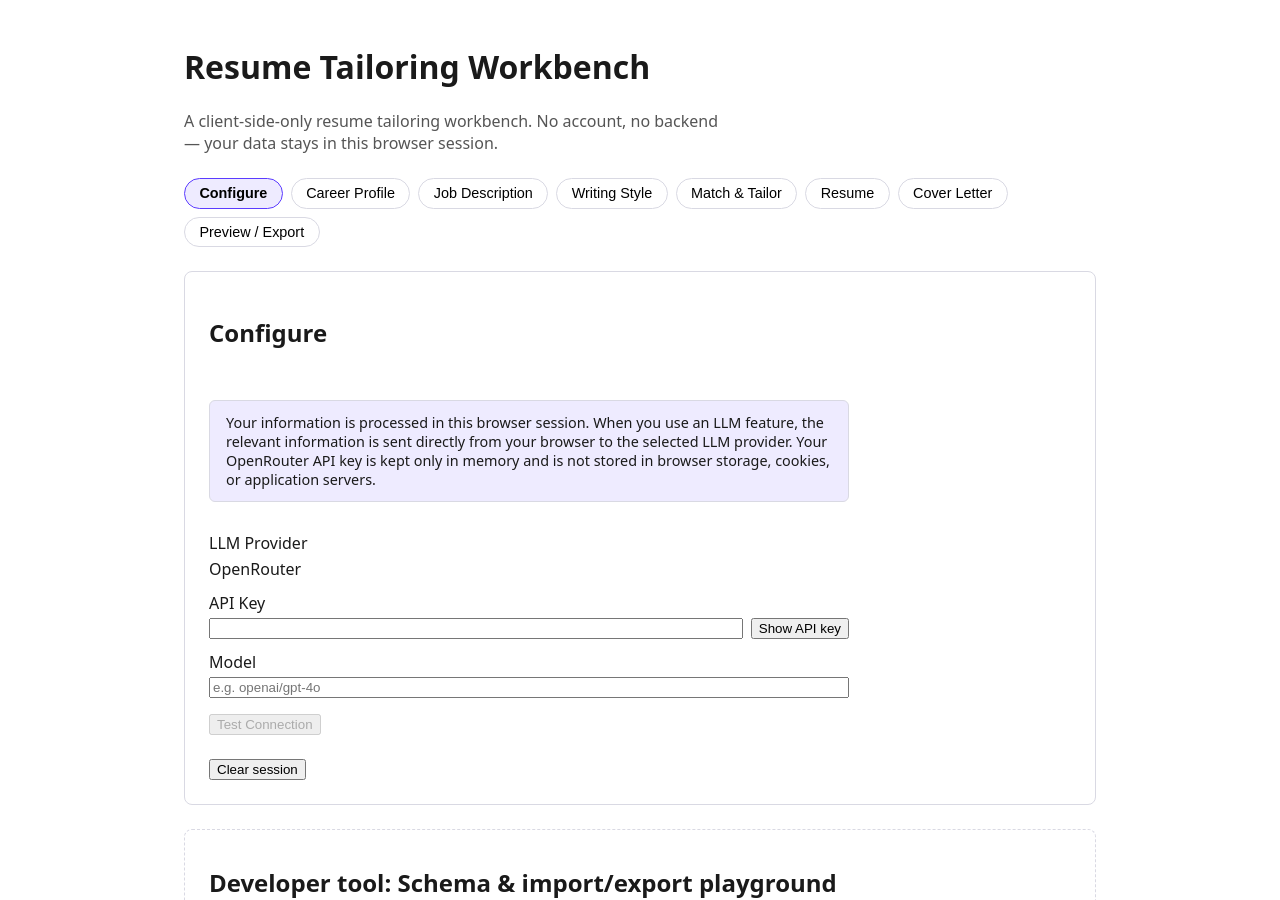
Test: Security / Privacy Verification (Stage 17) › never sends the API key in the outgoing LLM request body (only via the Authorization header)
Click the button "Configure". click: coordinates (233, 193)
box: [184,178,283,209]
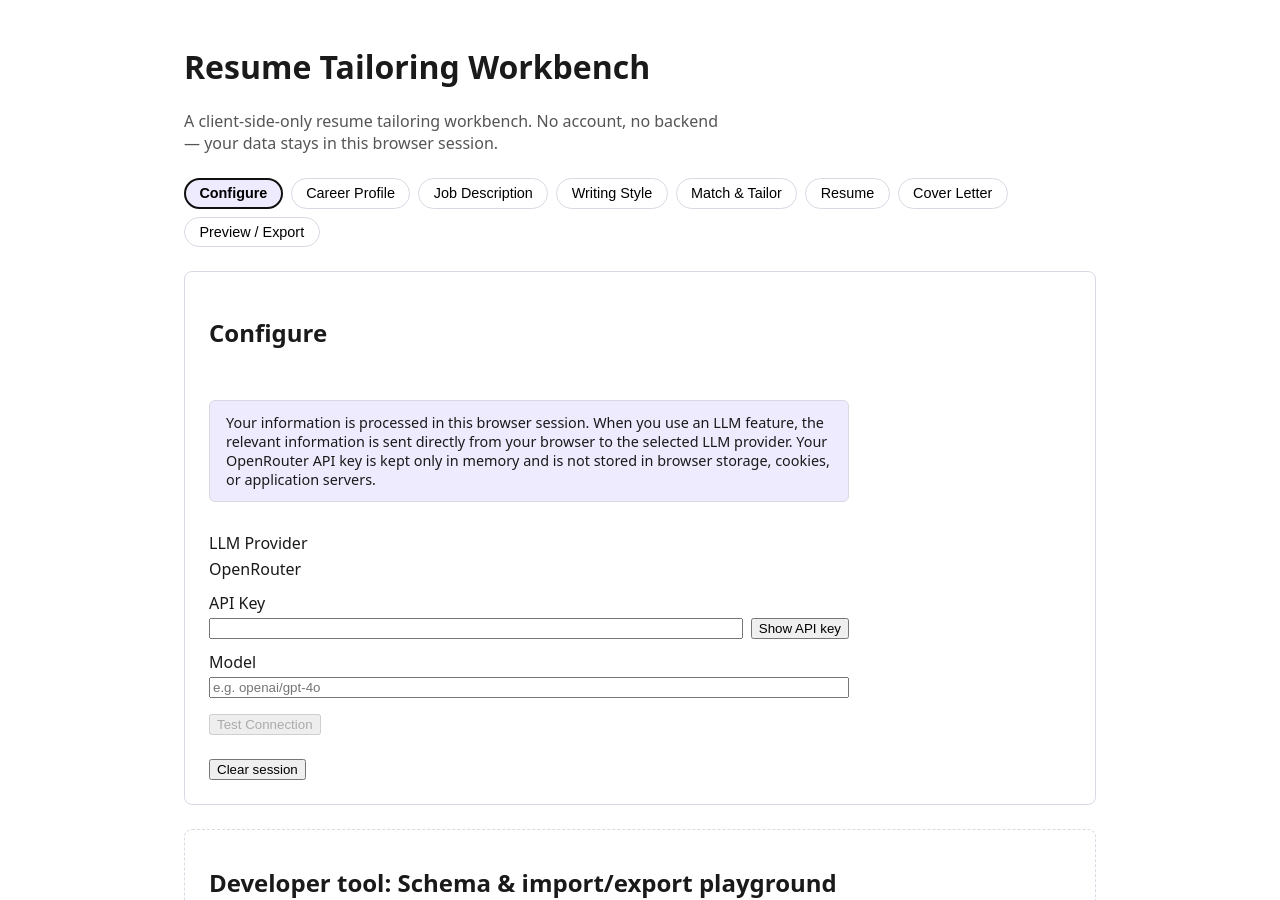
Type "sk-test-secret-should-never-leak-98765" into the password field labelled "API Key". click: coordinates (476, 628)
box: [209,618,743,639]
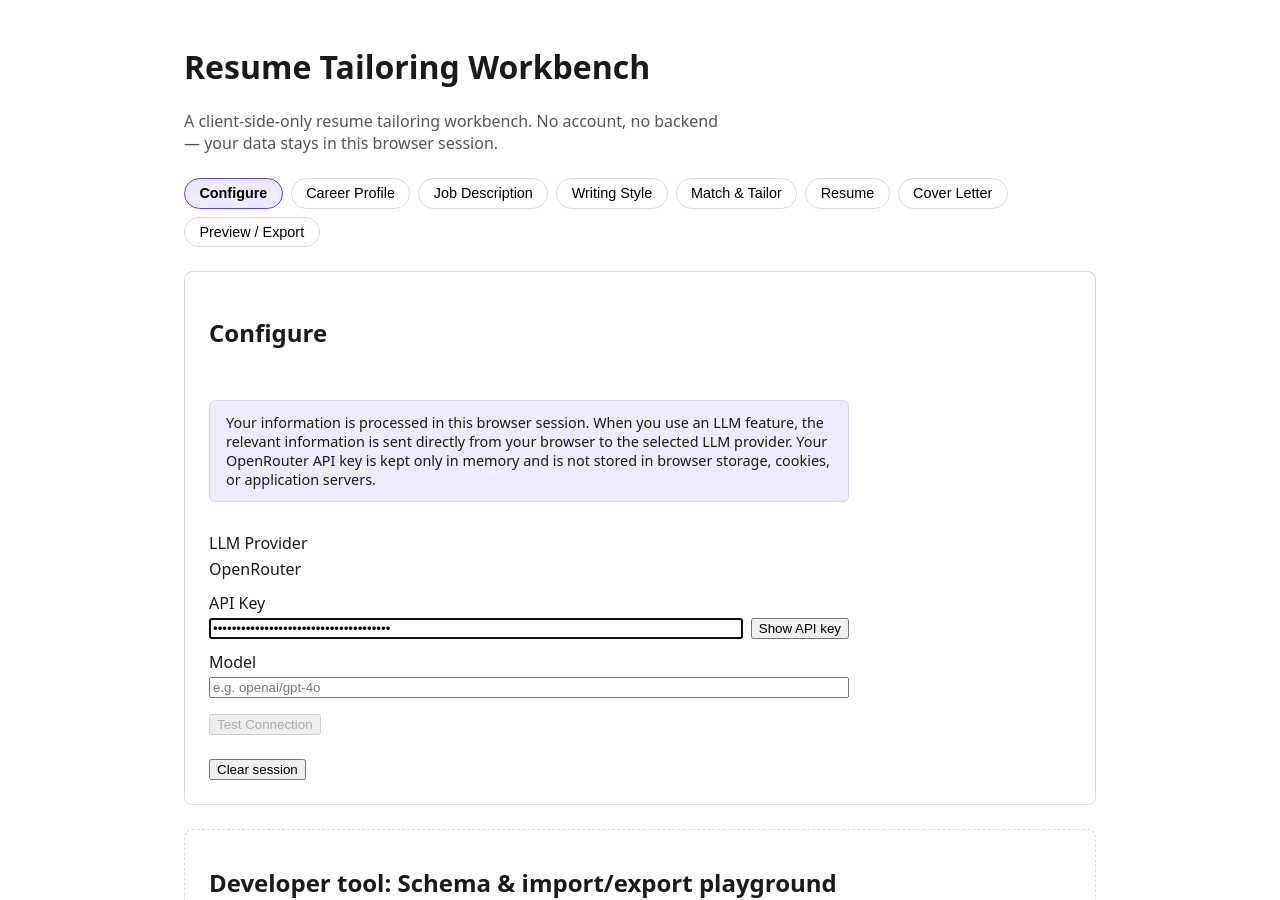
Type "openai/gpt-4o" into the field labelled "Model". click: coordinates (529, 688)
box: [209,677,849,698]
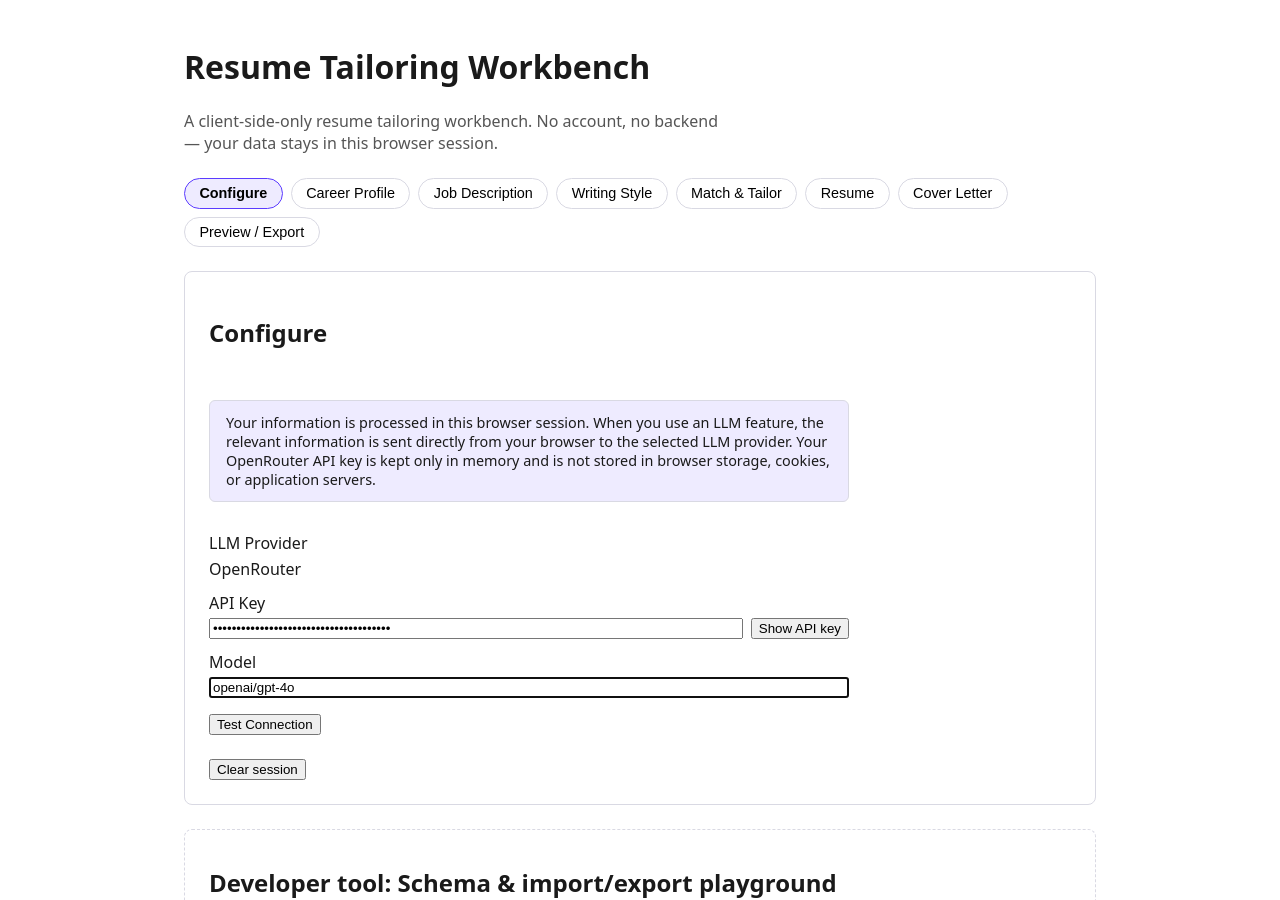
Click the button "Career Profile". click: coordinates (350, 193)
box: [291,178,410,209]
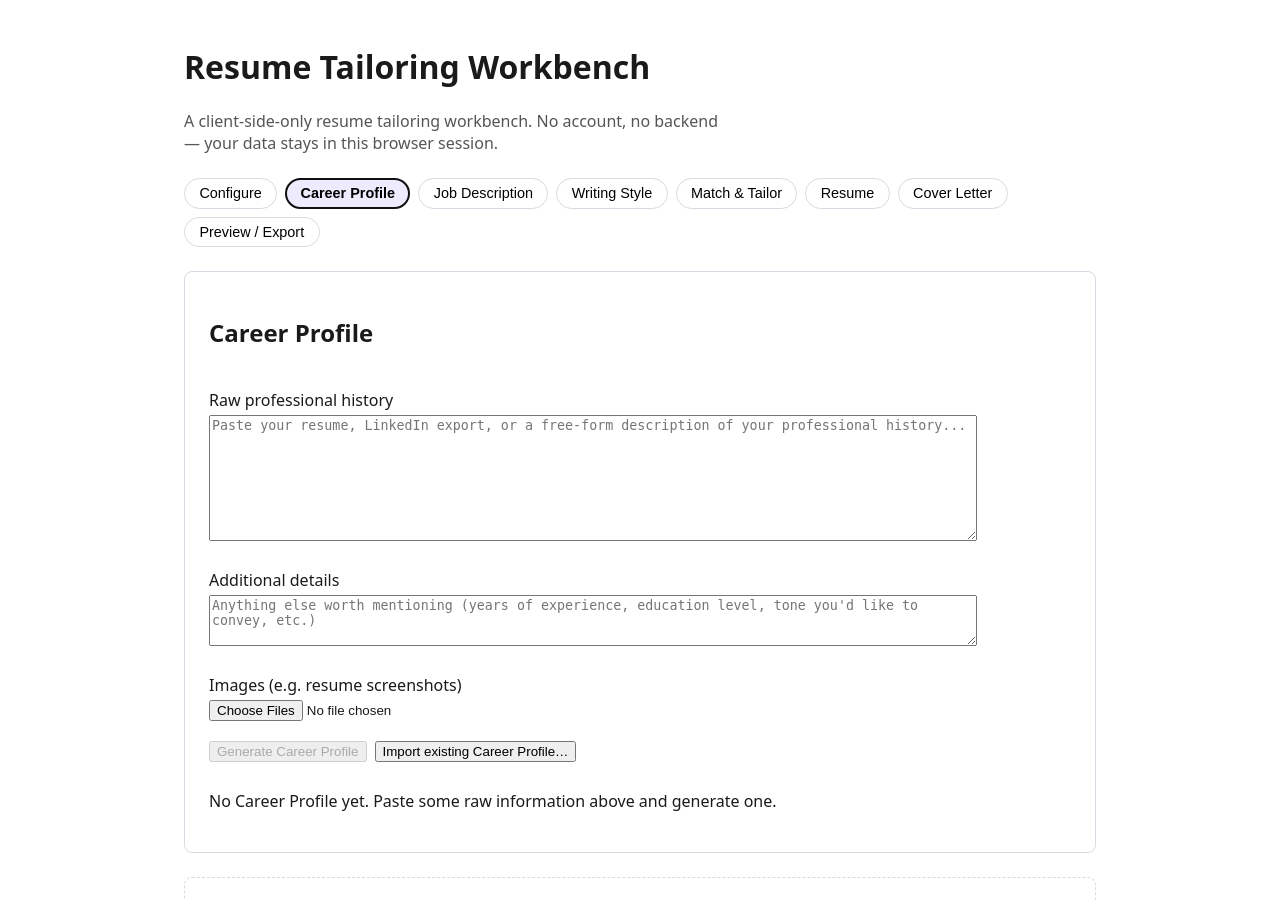
Type "Some history." into the text box labelled "Raw professional history". click: coordinates (593, 478)
box: [209,415,977,541]
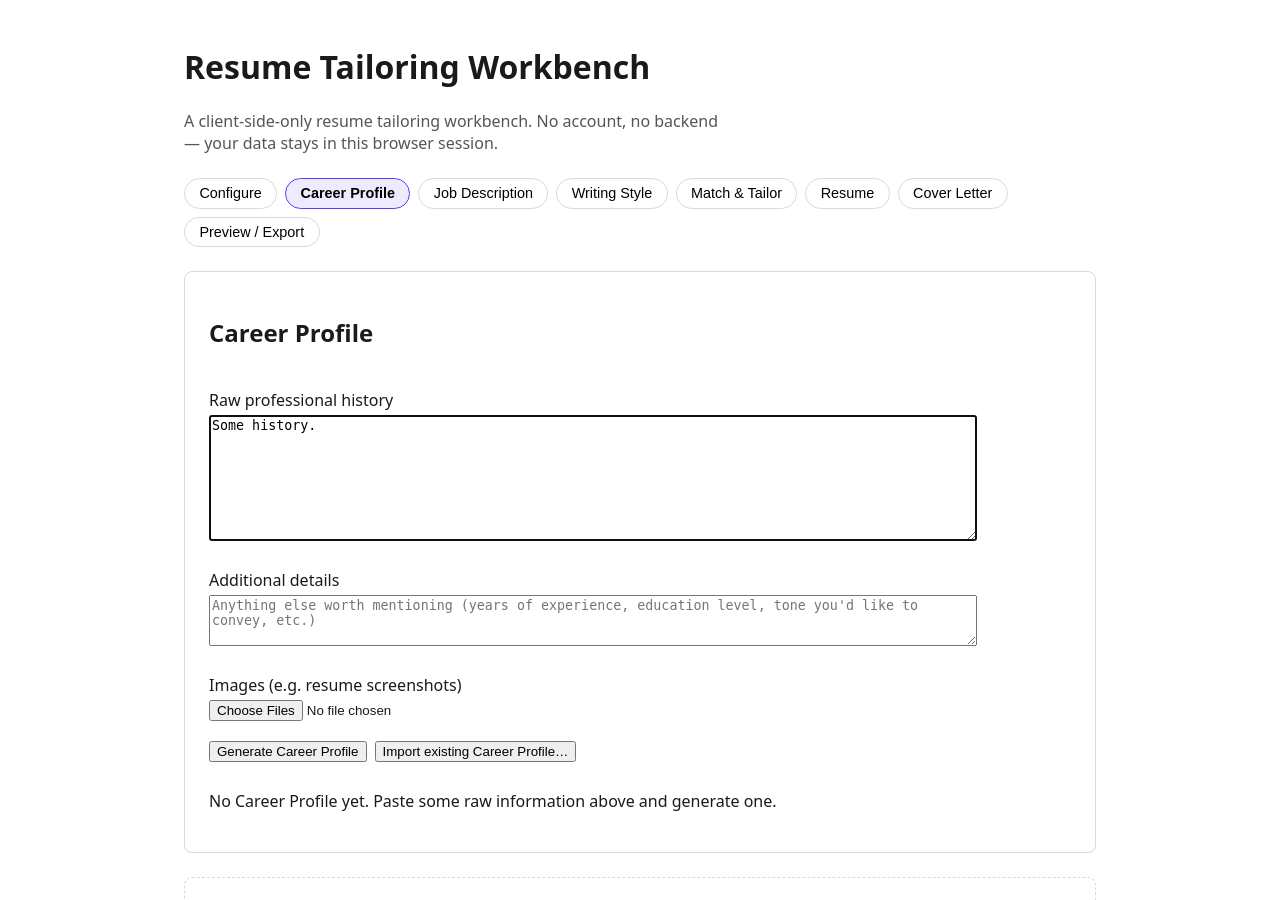
Click the button "Generate Career Profile". click: coordinates (288, 752)
box: [209,741,366,762]
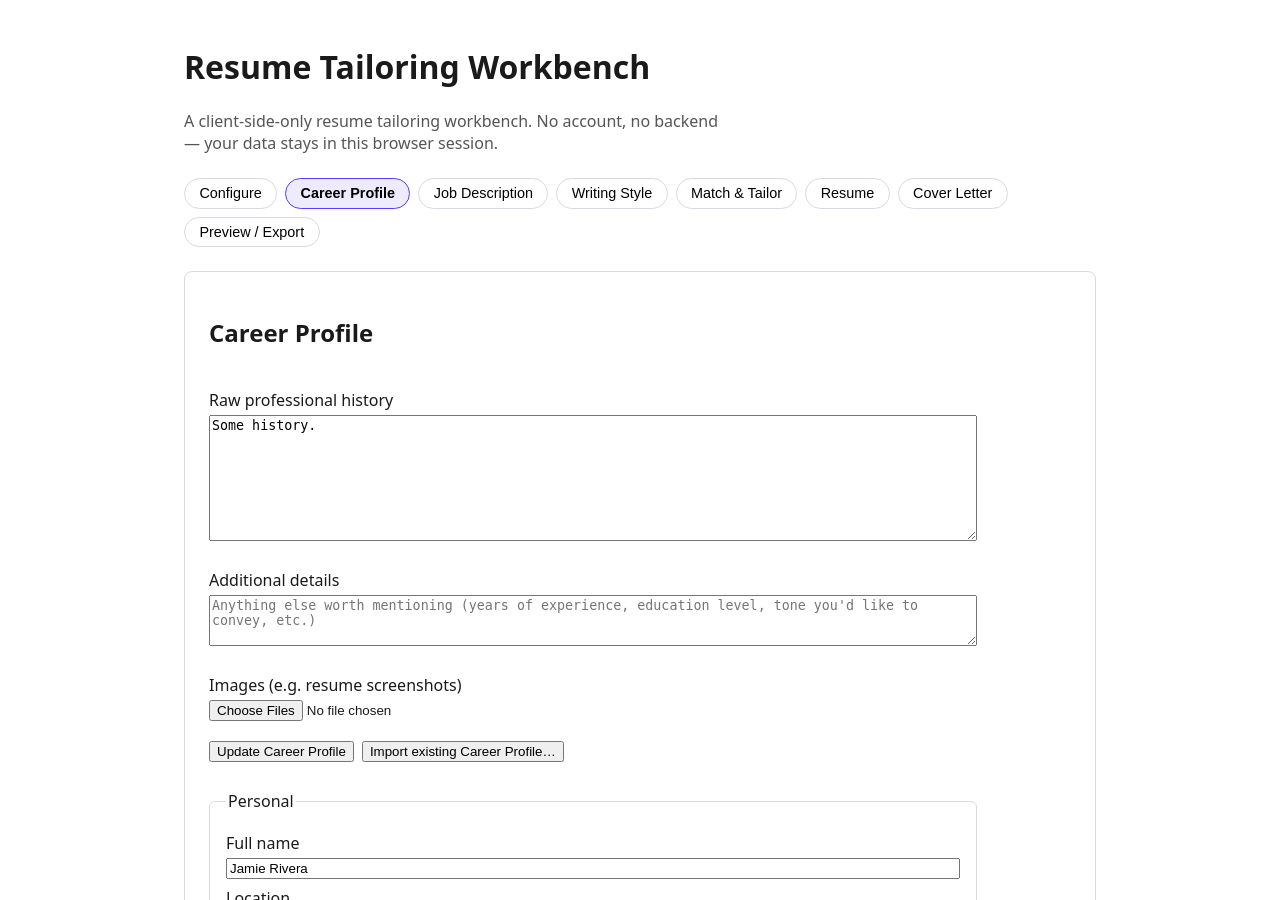
Expected: the field labelled "Full name" is shown, [226,858,960,879]
